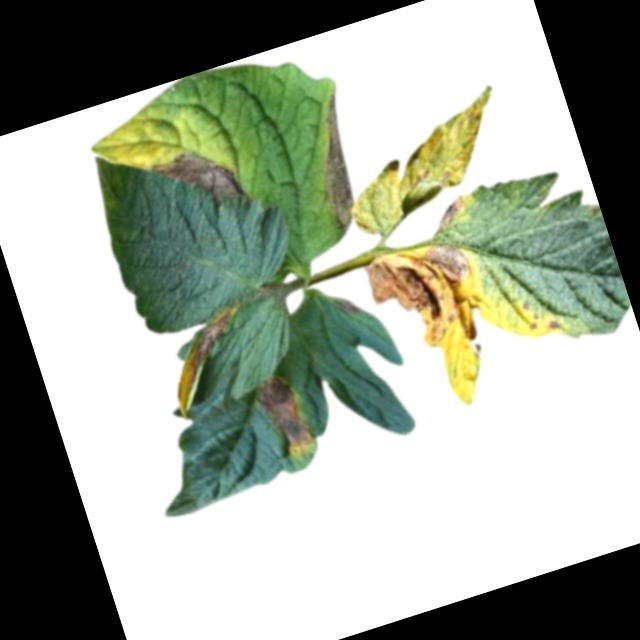Early_blight: (362, 232, 492, 362), (155, 302, 263, 416), (295, 91, 377, 236), (148, 138, 244, 221), (252, 366, 326, 460), (430, 193, 473, 234), (335, 292, 366, 322), (546, 317, 565, 335)
